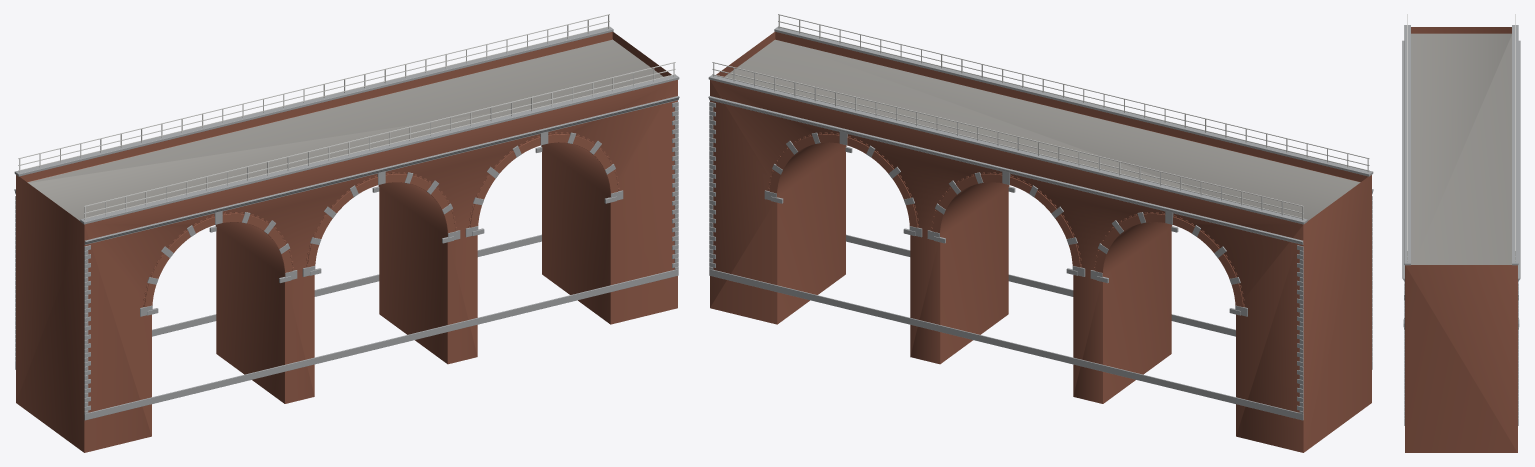
Rendered from calevoet.glb.
The picture shows the model from 3 angles, left to right: view 1: azimuth 30°, elevation 25°; view 2: azimuth 150°, elevation 25°; view 3: azimuth 270°, elevation 25°; orthographic projection. The views are drawn at different scales.
Visible parts, largest first — view 1: calevoet; view 2: calevoet; view 3: calevoet.
Boxes of the visible parts, left/top/right/bottom form: calevoet: left=14, top=14, right=679, bottom=452; calevoet: left=708, top=14, right=1373, bottom=452; calevoet: left=1402, top=14, right=1520, bottom=452.
Bounding box in the file's own units: 47.5 × 18.7 × 9.93.
